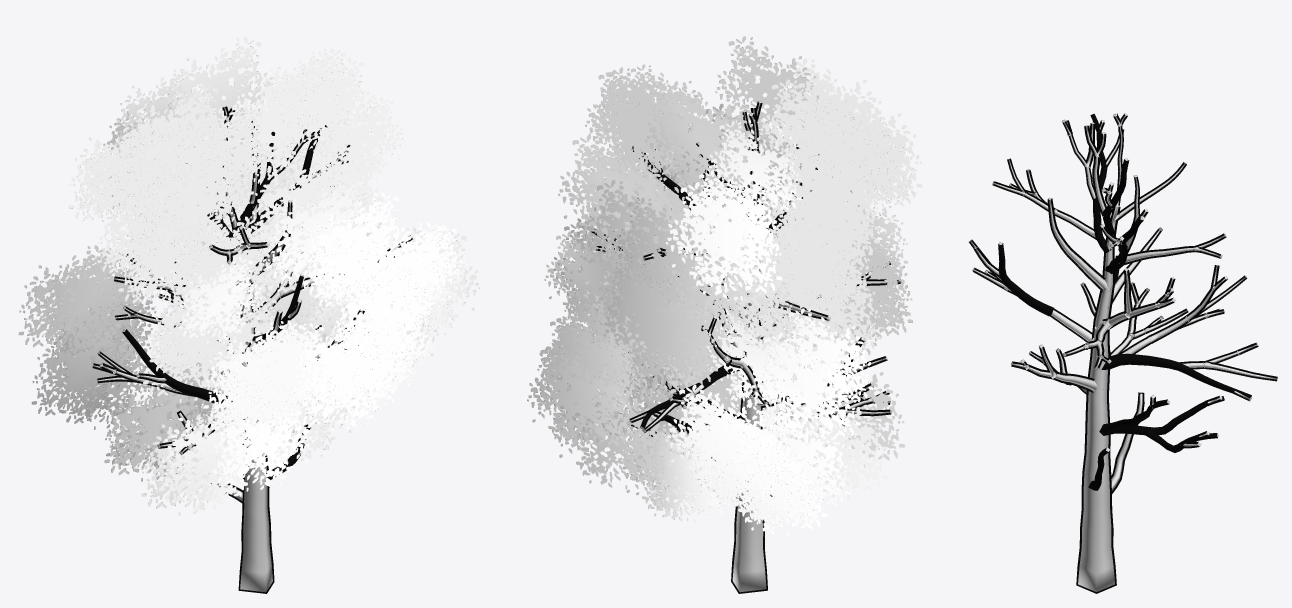
The model's file is Tree_01.fbx.
The picture shows the model from 3 angles, left to right: view 1: azimuth 30°, elevation 25°; view 2: azimuth 150°, elevation 25°; view 3: azimuth 270°, elevation 25°; orthographic projection. The views are drawn at different scales.
Visible parts, largest first — view 1: treeTrunk, Plane.003, Plane.080, Plane.030, Plane.048, Plane.093, Plane.057, Plane.029, Plane.028, Plane.079, Plane.027, Plane.050 (+49 smaller); view 2: treeTrunk, Plane.009, Plane.058, Plane.031, Plane, Plane.033, Plane.037, Plane.026, Plane.017, Plane.008, Plane.025, Plane.005 (+58 smaller); view 3: treeTrunk.
Part boxes in pixels (<box>): treeTrunk: <box>92,106,412,593</box>; Plane.003: <box>140,145,249,256</box>; Plane.080: <box>333,266,431,365</box>; Plane.030: <box>31,320,133,422</box>; Plane.048: <box>158,399,266,510</box>; Plane.093: <box>266,175,374,287</box>; Plane.057: <box>104,372,209,481</box>; Plane.029: <box>41,248,135,343</box>; Plane.028: <box>167,107,276,215</box>; Plane.079: <box>352,221,456,325</box>; Plane.027: <box>219,77,321,181</box>; Plane.050: <box>212,393,313,491</box>; treeTrunk: <box>590,101,900,593</box>; Plane.009: <box>666,182,782,300</box>; Plane.058: <box>603,275,717,391</box>; Plane.031: <box>750,332,860,444</box>; Plane: <box>767,149,879,262</box>; Plane.033: <box>665,384,771,492</box>; Plane.037: <box>527,345,632,452</box>; Plane.026: <box>645,81,758,191</box>; Plane.017: <box>558,134,671,248</box>; Plane.008: <box>614,197,718,303</box>; Plane.025: <box>707,121,801,214</box>; Plane.005: <box>761,215,854,312</box>; treeTrunk: <box>969,113,1277,593</box>.
Bounding box in the file's own units: 1397 × 1845 × 1042.
